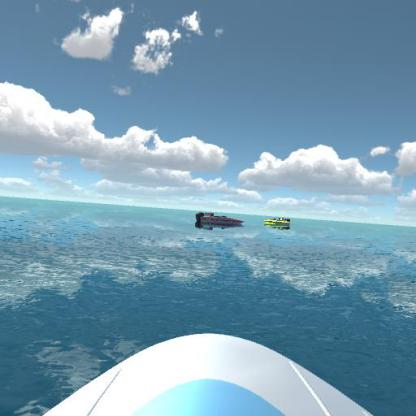usv2: (264, 213, 297, 232)
usv3: (190, 206, 251, 234)
